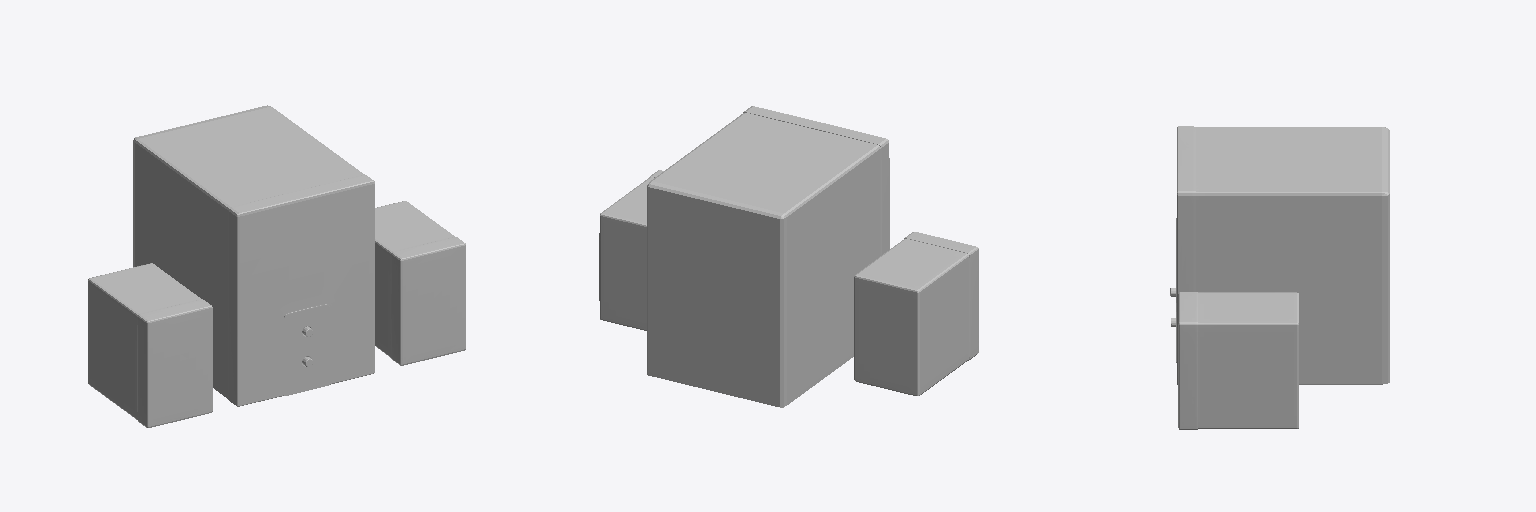
The model's file is Radio.obj.
3 renders of one model, left to right at view 1: azimuth 30°, elevation 25°; view 2: azimuth 150°, elevation 25°; view 3: azimuth 270°, elevation 25°, orthographic.
Visible parts, largest first — view 1: Box01, Box02, Box03; view 2: Box01, Box02, Box03; view 3: Box01, Box03.
Part boxes in pixels (x1,y1,x2,y2): Box01: (133, 105, 374, 406); Box02: (88, 263, 212, 427); Box03: (375, 201, 465, 365); Box01: (647, 106, 889, 407); Box02: (854, 232, 978, 395); Box03: (599, 170, 663, 330); Box01: (1170, 126, 1389, 384); Box03: (1178, 292, 1298, 429).
Bounding box in the file's own units: 34.9 × 20.14 × 20.64.